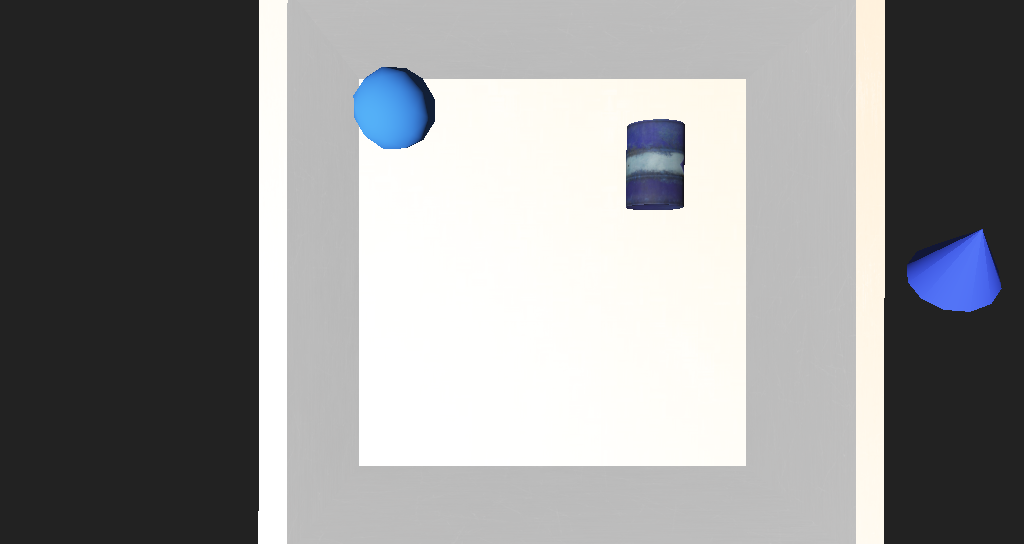cone: (563, 186, 610, 234)
cylinder: (761, 222, 883, 293)
sphere: (354, 160, 414, 203)
